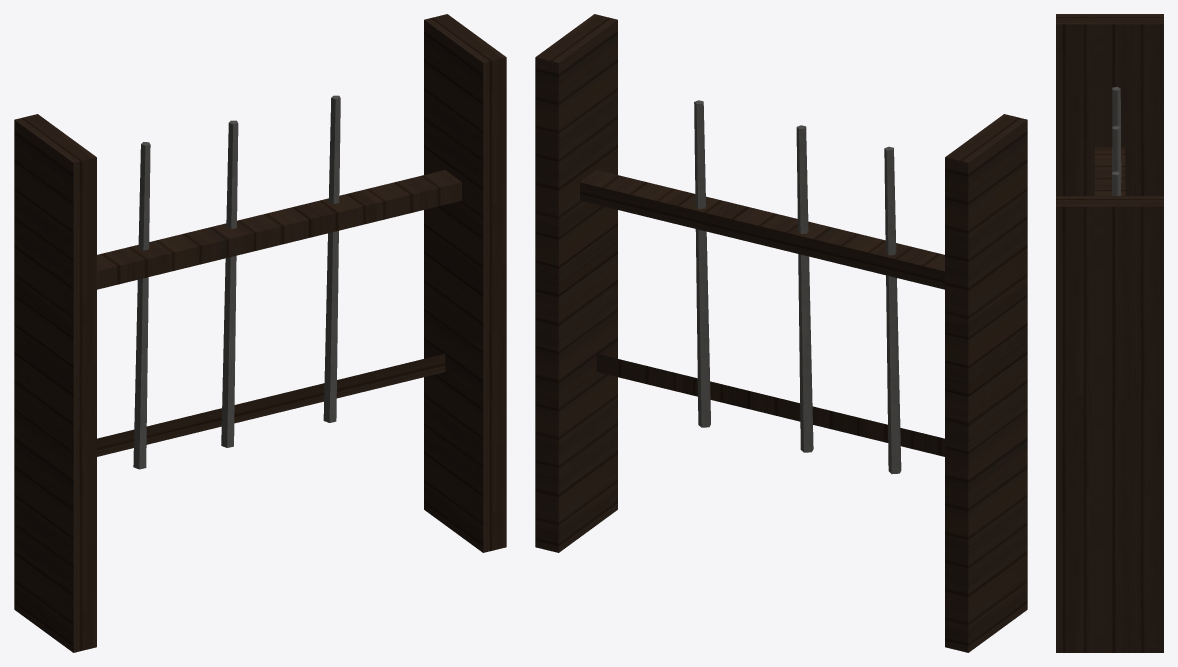
The model's file is weapon_rack_01.glb.
3 views of the same model, side by side, from view 1: azimuth 30°, elevation 25°; view 2: azimuth 150°, elevation 25°; view 3: azimuth 270°, elevation 25° (orthographic). The views are drawn at different scales.
Parts seen in each view (by area): view 1: weapon_rack_01; view 2: weapon_rack_01; view 3: weapon_rack_01.
Part boxes in pixels (bbox=[...]): weapon_rack_01: bbox=[14, 14, 506, 652]; weapon_rack_01: bbox=[535, 14, 1027, 652]; weapon_rack_01: bbox=[1056, 14, 1163, 652].
Size of the model in its own units: 1.48 by 1.6 by 0.35.
Materials: 2 (2 with a texture image).
